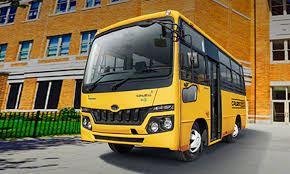bus: (78, 9, 250, 162)
